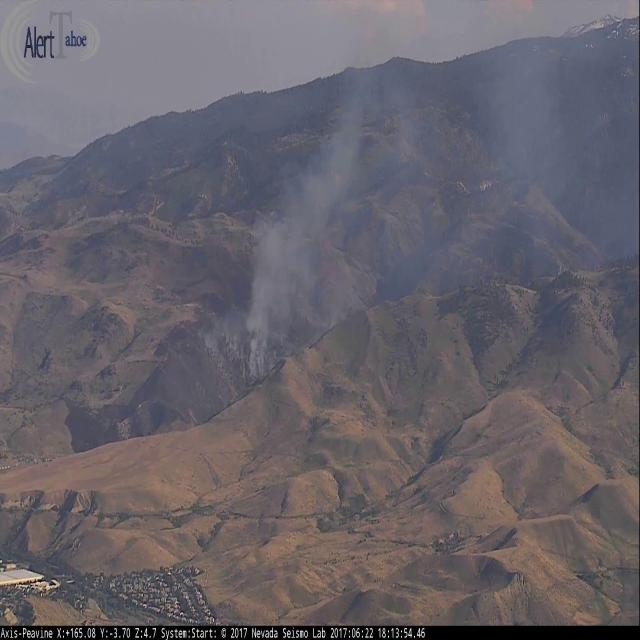smoke: (193, 0, 640, 435)
